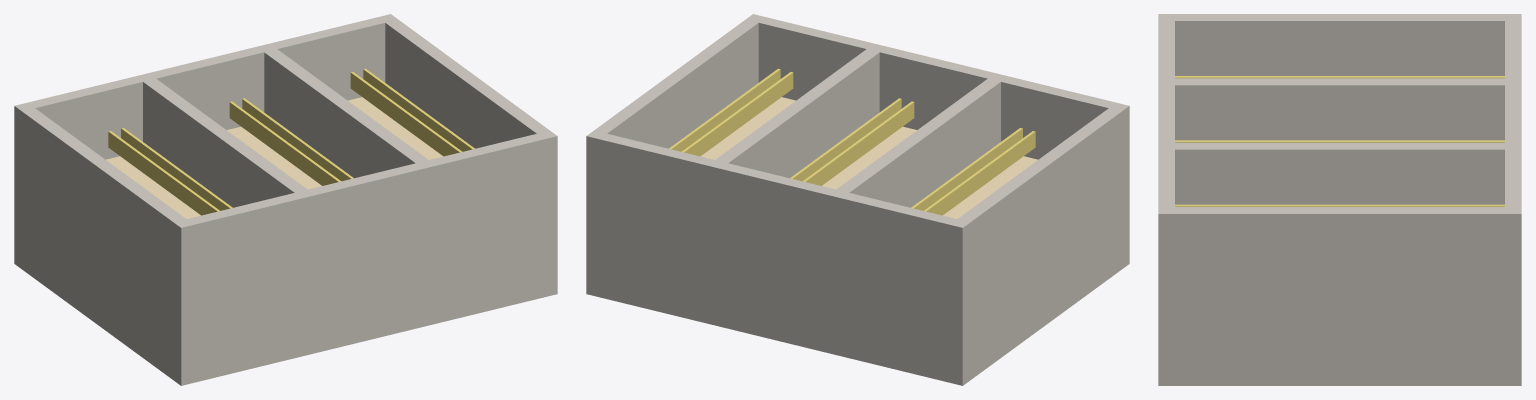
The picture shows the model from 3 angles, left to right: view 1: azimuth 30°, elevation 25°; view 2: azimuth 150°, elevation 25°; view 3: azimuth 270°, elevation 25°; orthographic projection. The views are drawn at different scales.
Visible parts, largest first — view 1: agua_filtro__rapido_gravedad__cuerpo, agua_filtro__rapido_gravedad__canaletas, agua_filtro__rapido_gravedad__lecho; view 2: agua_filtro__rapido_gravedad__cuerpo, agua_filtro__rapido_gravedad__canaletas, agua_filtro__rapido_gravedad__lecho; view 3: agua_filtro__rapido_gravedad__cuerpo, agua_filtro__rapido_gravedad__canaletas.
Part boxes in pixels (x1,y1,x2,y2): agua_filtro__rapido_gravedad__cuerpo: [14, 14, 557, 385]; agua_filtro__rapido_gravedad__canaletas: [108, 68, 474, 215]; agua_filtro__rapido_gravedad__lecho: [106, 97, 443, 218]; agua_filtro__rapido_gravedad__cuerpo: [586, 14, 1129, 385]; agua_filtro__rapido_gravedad__canaletas: [669, 68, 1035, 215]; agua_filtro__rapido_gravedad__lecho: [700, 97, 1037, 218]; agua_filtro__rapido_gravedad__cuerpo: [1158, 14, 1521, 385]; agua_filtro__rapido_gravedad__canaletas: [1175, 76, 1504, 206].
Bounding box in the file's own units: 8.6 × 3.45 × 6.6.
